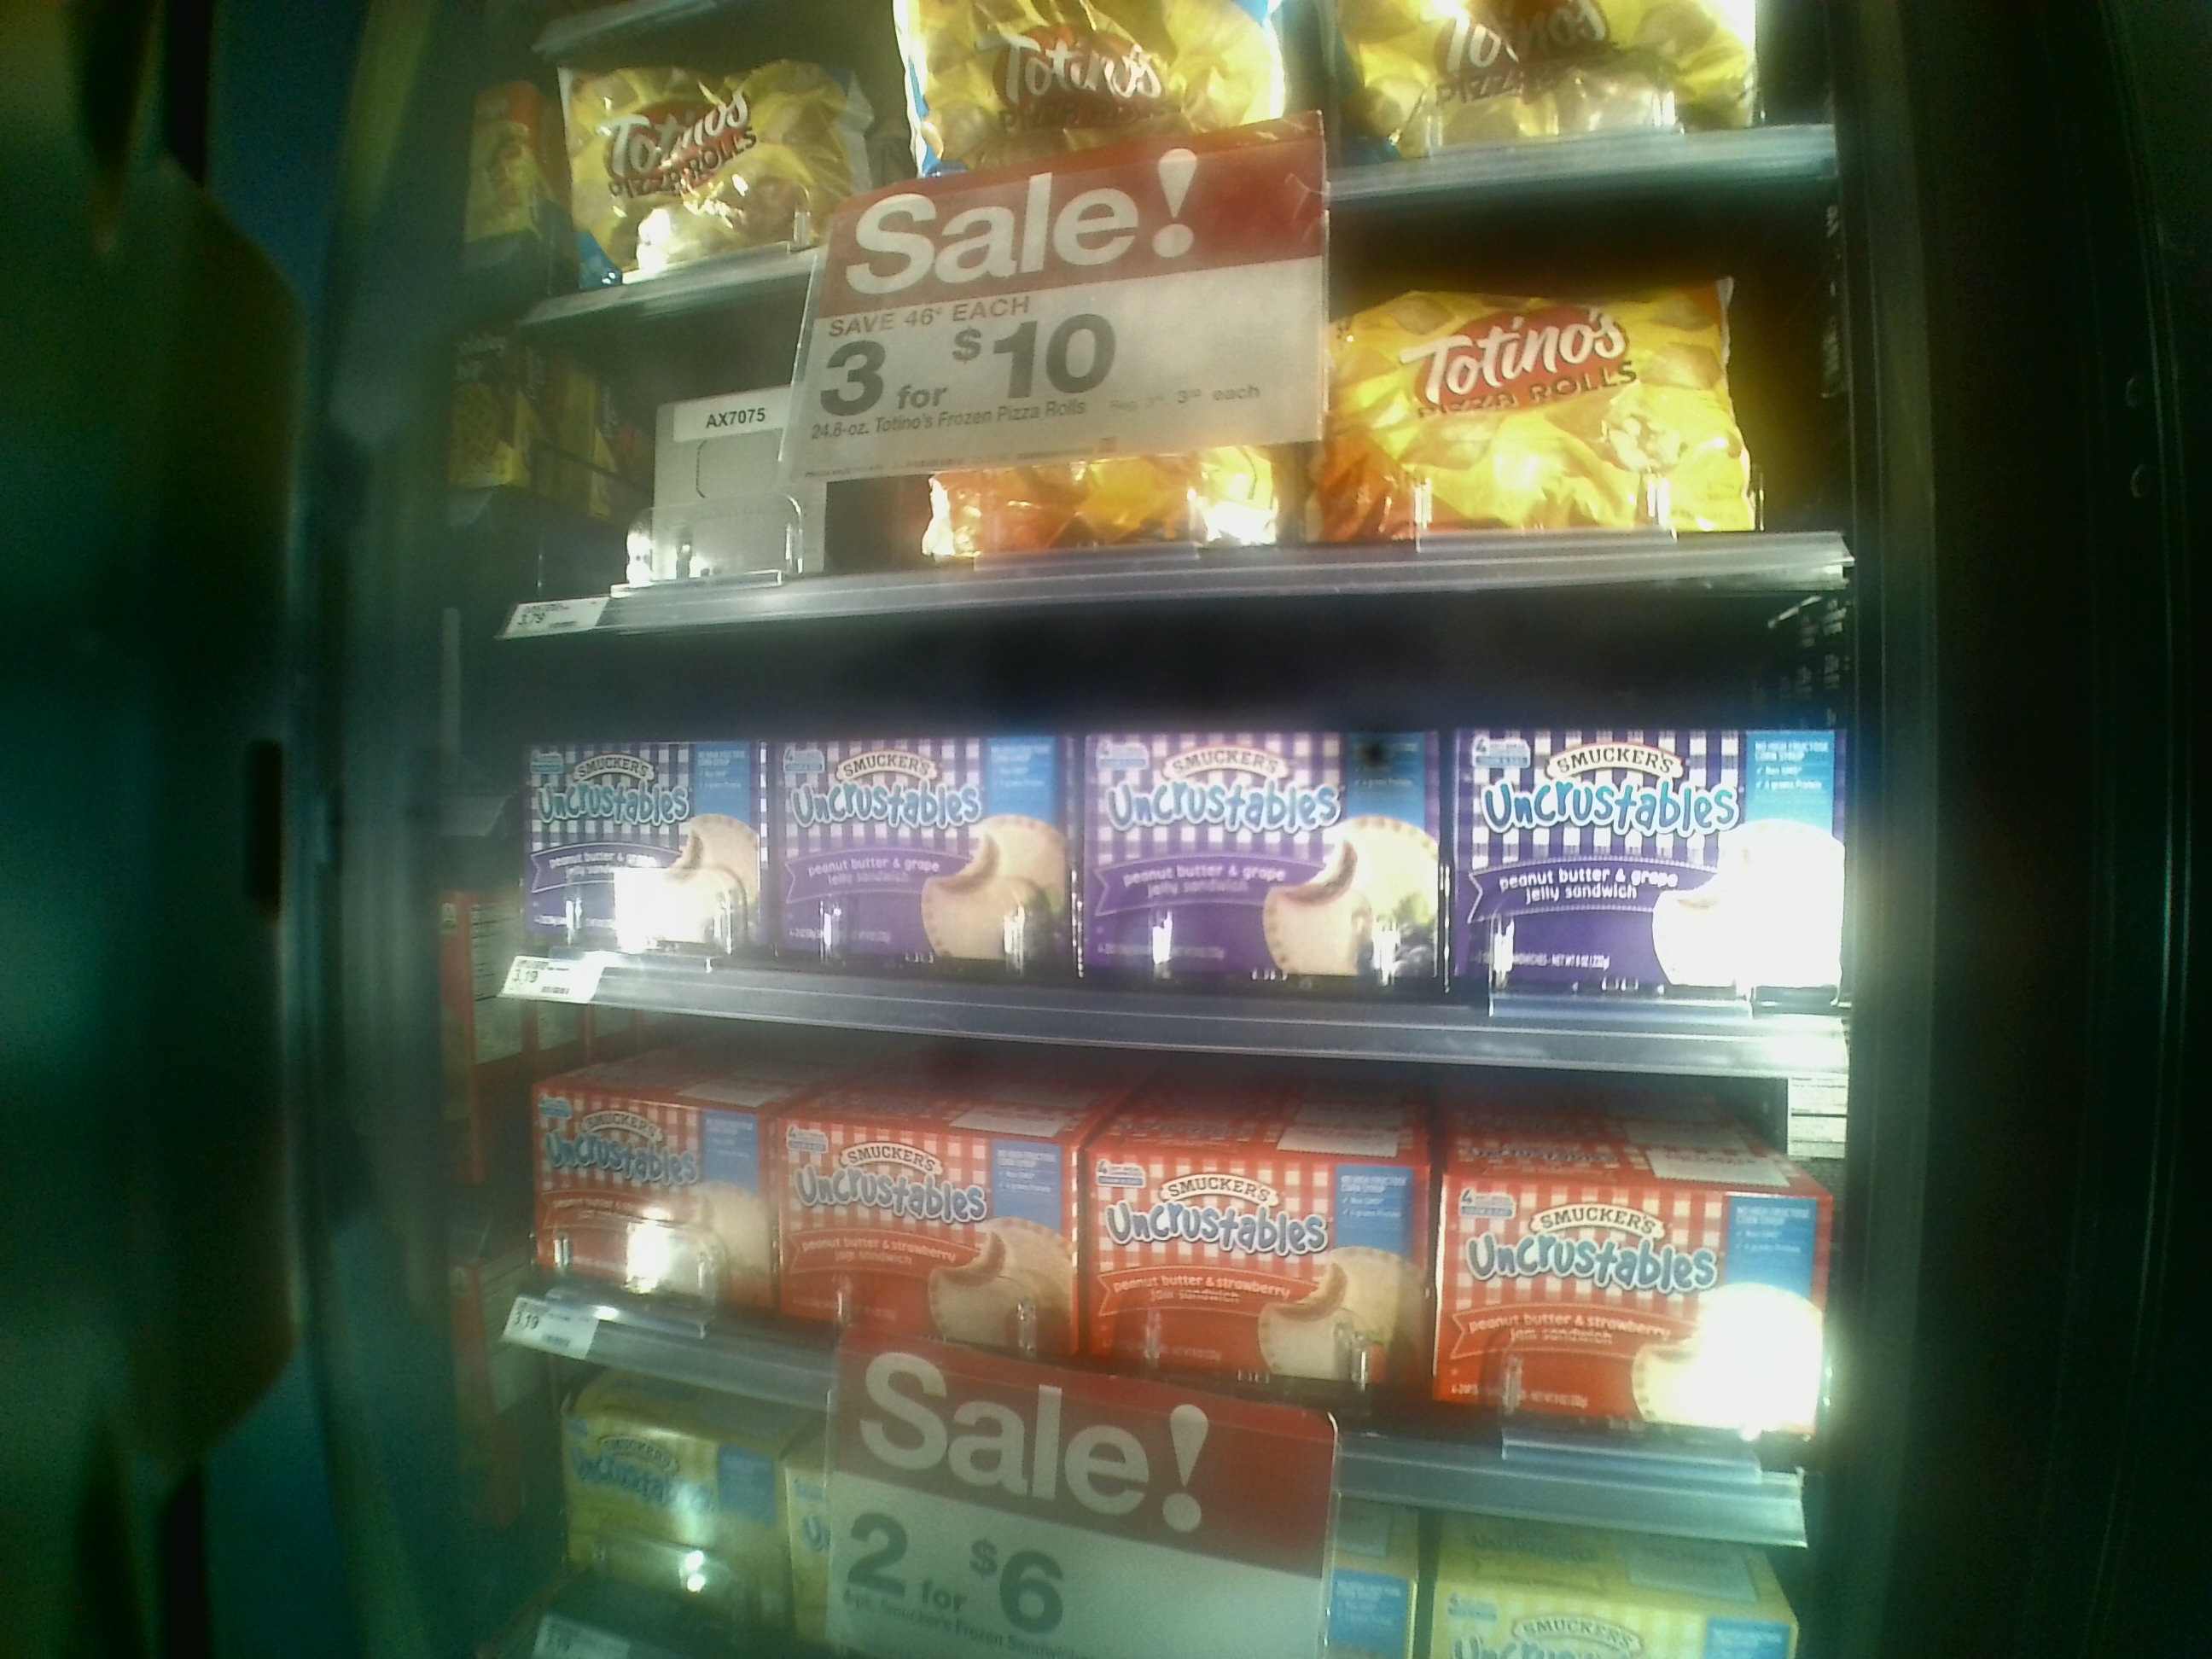shelf: (472, 615, 1855, 1075), (477, 314, 1864, 605)
